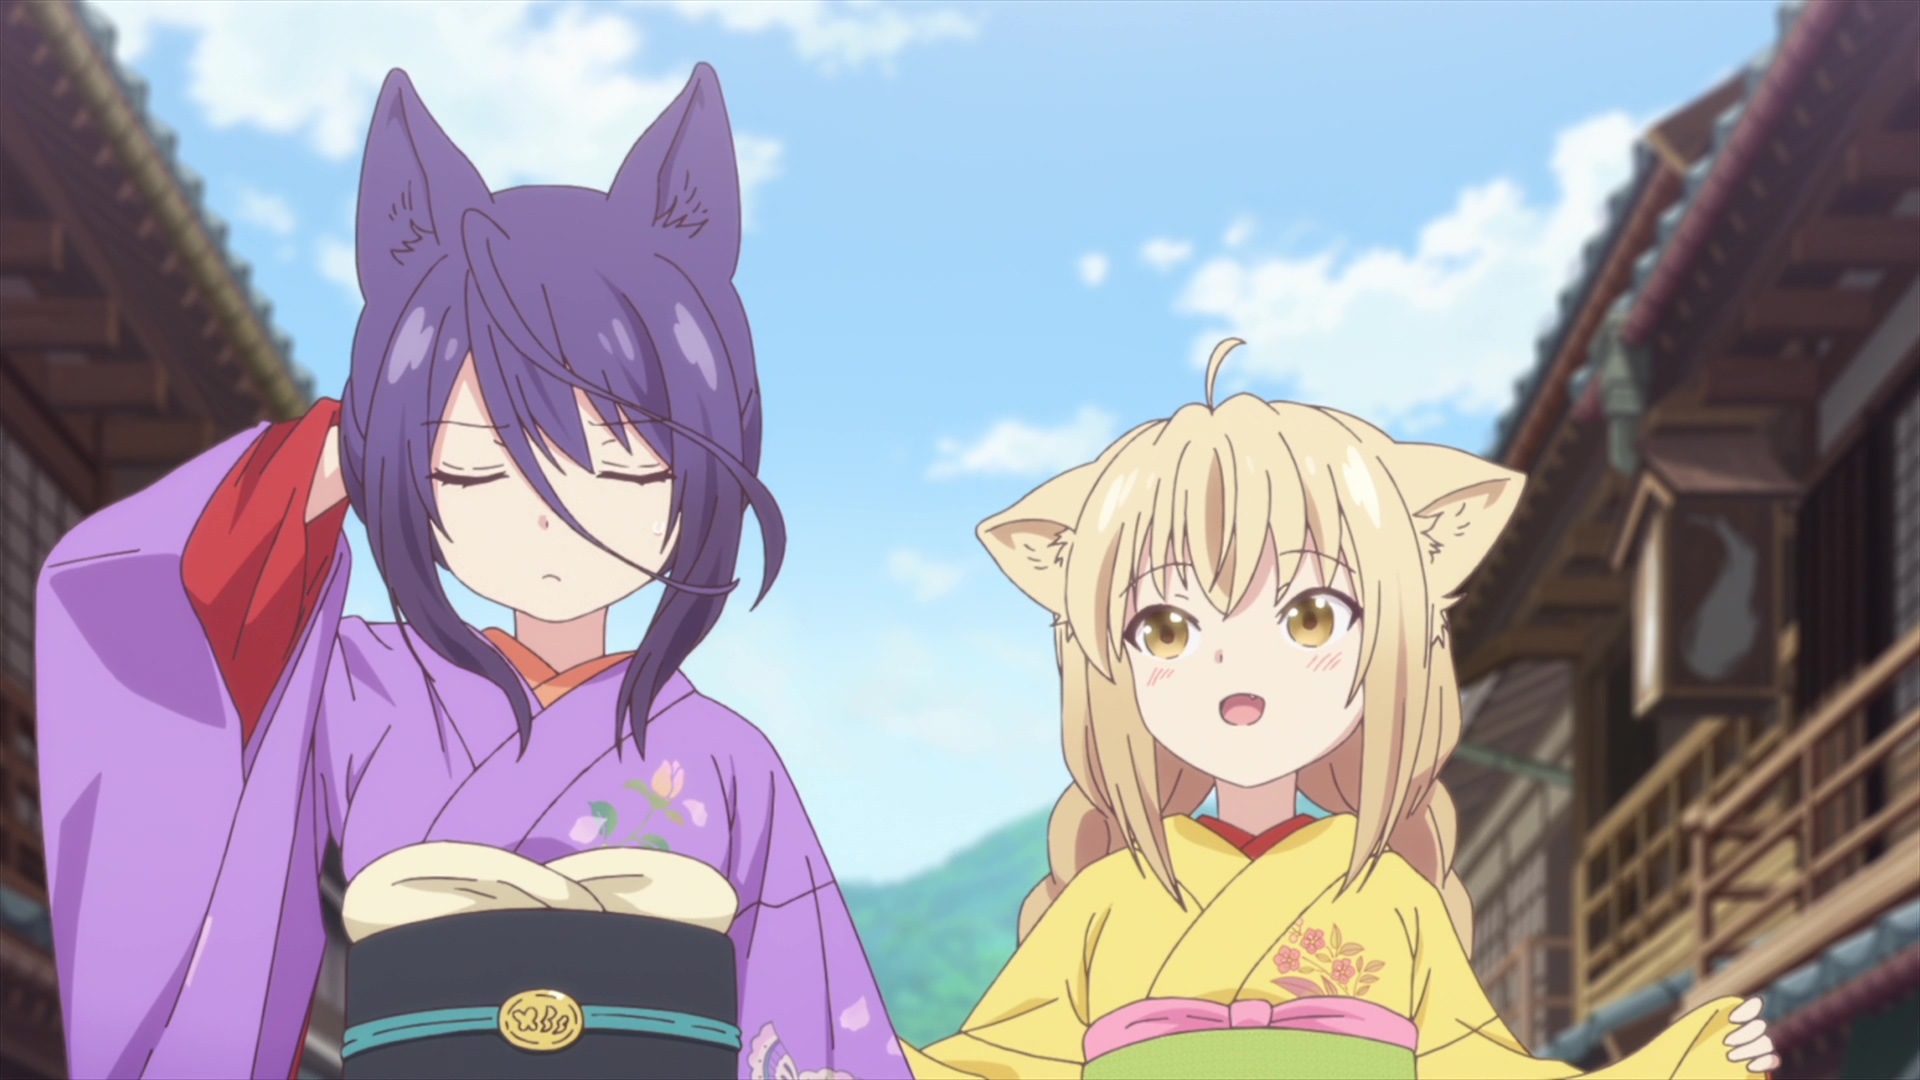柚: (899, 338, 1782, 1080)
皋: (33, 65, 911, 1080)
